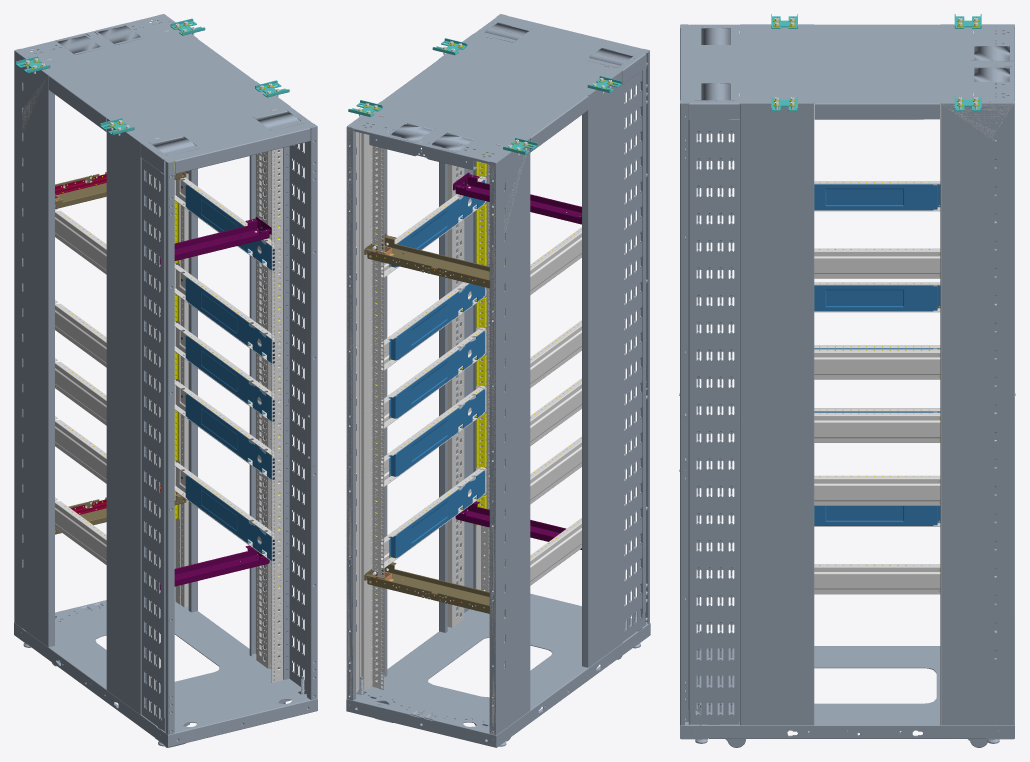
Rendered from nv-mgx-rack-v1-2-rev7.glb.
3 renders of one model, left to right at view 1: azimuth 30°, elevation 25°; view 2: azimuth 150°, elevation 25°; view 3: azimuth 270°, elevation 25°, orthographic. The views are drawn at different scales.
Parts seen in each view (by area): view 1: NVIDIA_POST_LR_OUTER_V2_MOD [0077], NVIDIA_COVER_TOP_V2_MOD [0001], NVIDIA_LC_OUTER_V2_MOD [0075], NVIDIA_BASE_V2_MOD [0111], NVIDIA_POST_RF_1_V2_MOD [0073], NVIDIA_POST_LF_2_V2_MOD [0074], NVIDIA_LF_CORNER_V2_MOD [0043], NVIDIA_RF_CORNER_V2_MOD [0058], NV_POST_ORV3_PST_SAME_V2_MOD [0205], SOLID [0212], NVIDIA_POST_RC_OUTER_V2_MOD [0076], NVIDIA_POST_RR_OUTER_V2_MOD [0094] (+22 smaller); view 2: NVIDIA_POST_LR_OUTER_V2_MOD [0077], NVIDIA_LC_OUTER_V2_MOD [0075], NVIDIA_COVER_TOP_V2_MOD [0001], NVIDIA_BASE_V2_MOD [0111], NVIDIA_POST_LF_2_V2_MOD [0074], NV_POST_ORV3_PST_SAME_V2_MOD [0204], NVIDIA_POST_RR_OUTER_V2_MOD [0094], SOLID [0214], NV_POST_RR_OUTER_2-5MM_V1-2 [0186], NVIDIA_POST_RC_OUTER_V2_MOD [0076], NV_POST_ORV3_PST_SAME_V2_MOD [0205], NVIDIA_LF_CORNER_V2_MOD [0043] (+23 smaller); view 3: NVIDIA_POST_RC_OUTER_V2_MOD [0076], NVIDIA_POST_RR_OUTER_V2_MOD [0094], NVIDIA_COVER_TOP_V2_MOD [0001], NVIDIA_POST_RF_1_V2_MOD [0073], NVIDIA_BASE_V2_MOD [0111], NVIDIA_RF_CORNER_V2_MOD [0058], SOLID [0866], SOLID [0630], SOLID [0748], SOLID [0984], SOLID [1102], SOLID [0753] (+7 smaller).
Boxes of the visible parts, left/top/right/bottom form: NVIDIA_POST_LR_OUTER_V2_MOD [0077]: left=14, top=51, right=54, bottom=647; NVIDIA_COVER_TOP_V2_MOD [0001]: left=14, top=14, right=317, bottom=173; NVIDIA_LC_OUTER_V2_MOD [0075]: left=106, top=119, right=144, bottom=714; NVIDIA_BASE_V2_MOD [0111]: left=14, top=590, right=317, bottom=747; NVIDIA_POST_RF_1_V2_MOD [0073]: left=283, top=142, right=306, bottom=695; NVIDIA_POST_LF_2_V2_MOD [0074]: left=141, top=158, right=164, bottom=731; NVIDIA_LF_CORNER_V2_MOD [0043]: left=160, top=160, right=174, bottom=734; NVIDIA_RF_CORNER_V2_MOD [0058]: left=307, top=127, right=317, bottom=699; NV_POST_ORV3_PST_SAME_V2_MOD [0205]: left=256, top=151, right=274, bottom=668; SOLID [0212]: left=271, top=109, right=282, bottom=682; NVIDIA_POST_RC_OUTER_V2_MOD [0076]: left=249, top=148, right=287, bottom=679; NVIDIA_POST_RR_OUTER_V2_MOD [0094]: left=157, top=20, right=197, bottom=612; NVIDIA_POST_LR_OUTER_V2_MOD [0077]: left=489, top=139, right=530, bottom=735; NVIDIA_LC_OUTER_V2_MOD [0075]: left=582, top=71, right=622, bottom=667; NVIDIA_COVER_TOP_V2_MOD [0001]: left=347, top=14, right=649, bottom=170; NVIDIA_BASE_V2_MOD [0111]: left=346, top=593, right=650, bottom=747; NVIDIA_POST_LF_2_V2_MOD [0074]: left=622, top=71, right=644, bottom=641; NV_POST_ORV3_PST_SAME_V2_MOD [0204]: left=359, top=125, right=378, bottom=689; NVIDIA_POST_RR_OUTER_V2_MOD [0094]: left=346, top=127, right=387, bottom=700; SOLID [0214]: left=372, top=115, right=384, bottom=689; NV_POST_RR_OUTER_2-5MM_V1-2 [0186]: left=347, top=127, right=384, bottom=698; NVIDIA_POST_RC_OUTER_V2_MOD [0076]: left=439, top=133, right=475, bottom=632; NV_POST_ORV3_PST_SAME_V2_MOD [0205]: left=447, top=164, right=464, bottom=627; NVIDIA_LF_CORNER_V2_MOD [0043]: left=642, top=51, right=649, bottom=625; NVIDIA_POST_RC_OUTER_V2_MOD [0076]: left=740, top=104, right=814, bottom=725; NVIDIA_POST_RR_OUTER_V2_MOD [0094]: left=940, top=101, right=1014, bottom=725; NVIDIA_COVER_TOP_V2_MOD [0001]: left=680, top=24, right=1014, bottom=119; NVIDIA_POST_RF_1_V2_MOD [0073]: left=689, top=119, right=739, bottom=724; NVIDIA_BASE_V2_MOD [0111]: left=680, top=646, right=1014, bottom=739; NVIDIA_RF_CORNER_V2_MOD [0058]: left=680, top=104, right=696, bottom=725; SOLID [0866]: left=814, top=475, right=940, bottom=505; SOLID [0630]: left=814, top=564, right=940, bottom=594; SOLID [0748]: left=814, top=248, right=940, bottom=278; SOLID [0984]: left=814, top=412, right=940, bottom=442; SOLID [1102]: left=814, top=349, right=940, bottom=379; SOLID [0753]: left=814, top=184, right=940, bottom=210.
Bounding box in the file's own units: 0.7088 × 2.31 × 1.07.
